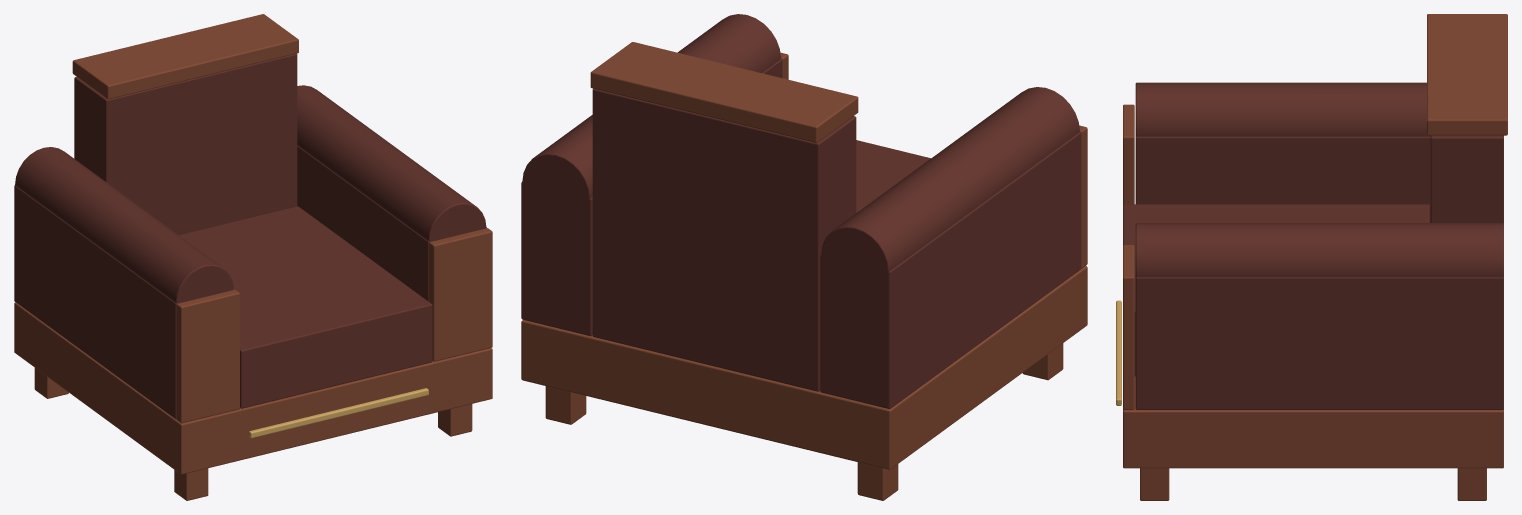
File: masterroom_sof_v1.fbx
The picture shows the model from 3 angles, left to right: view 1: azimuth 30°, elevation 25°; view 2: azimuth 150°, elevation 25°; view 3: azimuth 270°, elevation 25°; orthographic projection. The views are drawn at different scales.
Parts seen in each view (by area): view 1: 01_ReceptionSofa_Intact_Armchair_Left_Frame; view 2: 01_ReceptionSofa_Intact_Armchair_Left_Frame; view 3: 01_ReceptionSofa_Intact_Armchair_Left_Frame.
Part boxes in pixels (box(x1,y1,x2,y2)): 01_ReceptionSofa_Intact_Armchair_Left_Frame: box(14, 14, 492, 500); 01_ReceptionSofa_Intact_Armchair_Left_Frame: box(521, 14, 1087, 500); 01_ReceptionSofa_Intact_Armchair_Left_Frame: box(1116, 14, 1507, 500).
Bounding box in the file's own units: 84 × 80.2 × 80.2.
